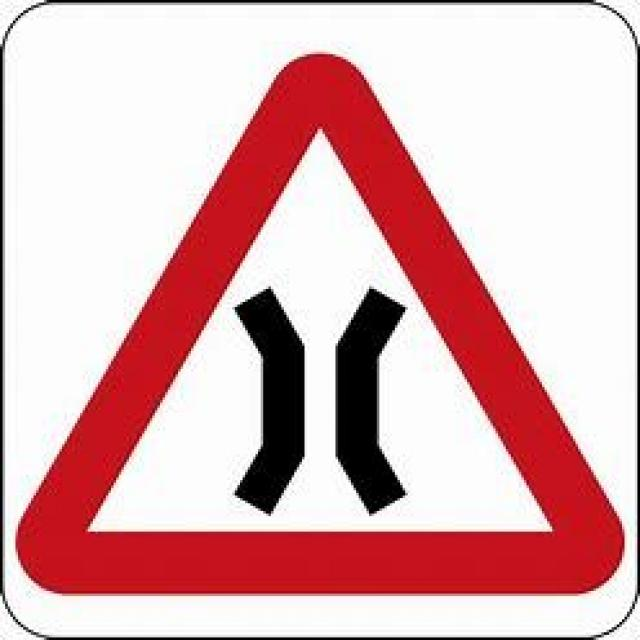NARROW_BRIDGE: (15, 49, 622, 591)
